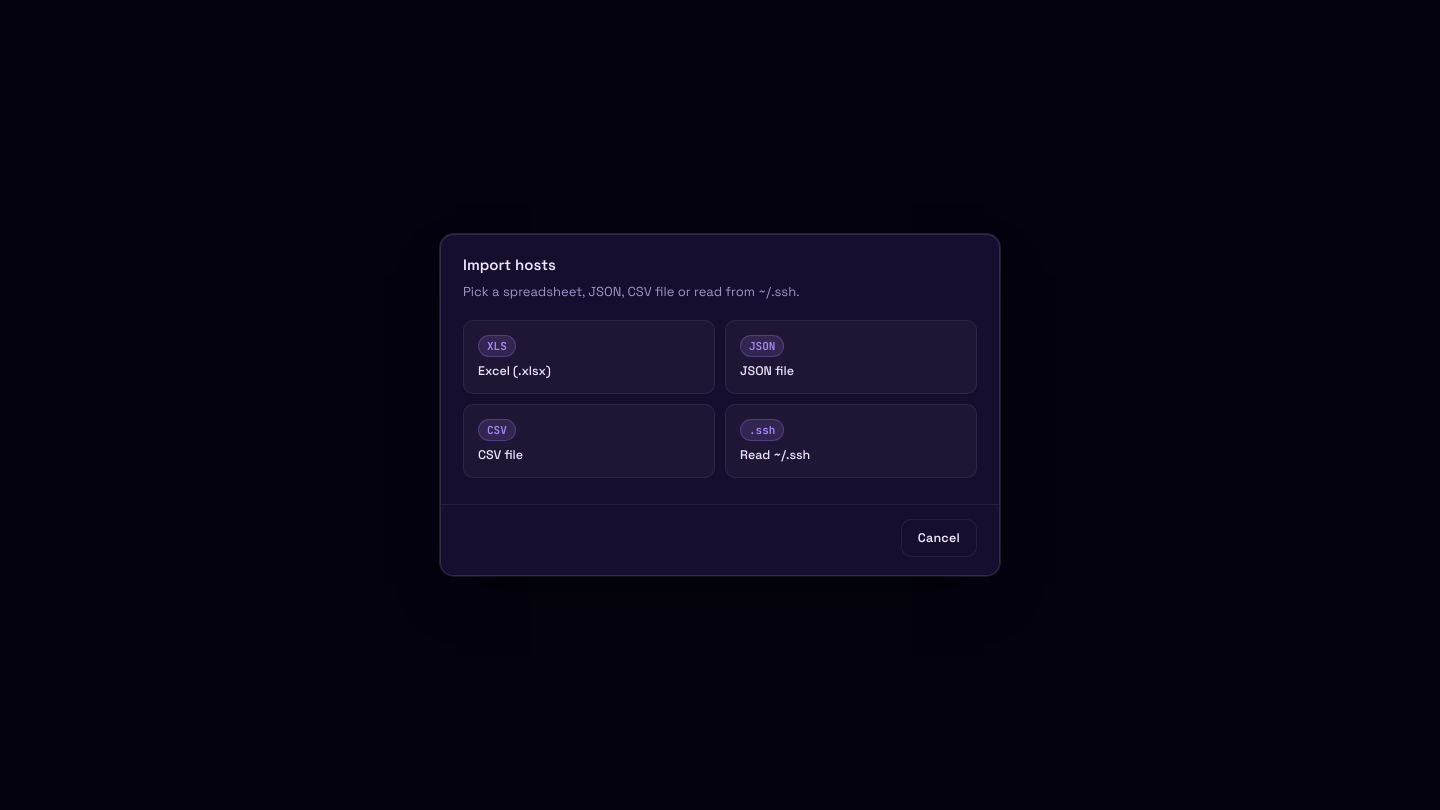
ImportDialog diagnostics › warns when an imported SSH IdentityFile path is missing
This screenshot has width=1440, height=810.
Click the text "Read ~/.ssh".
click(775, 455)  # box [740,447,810,463]
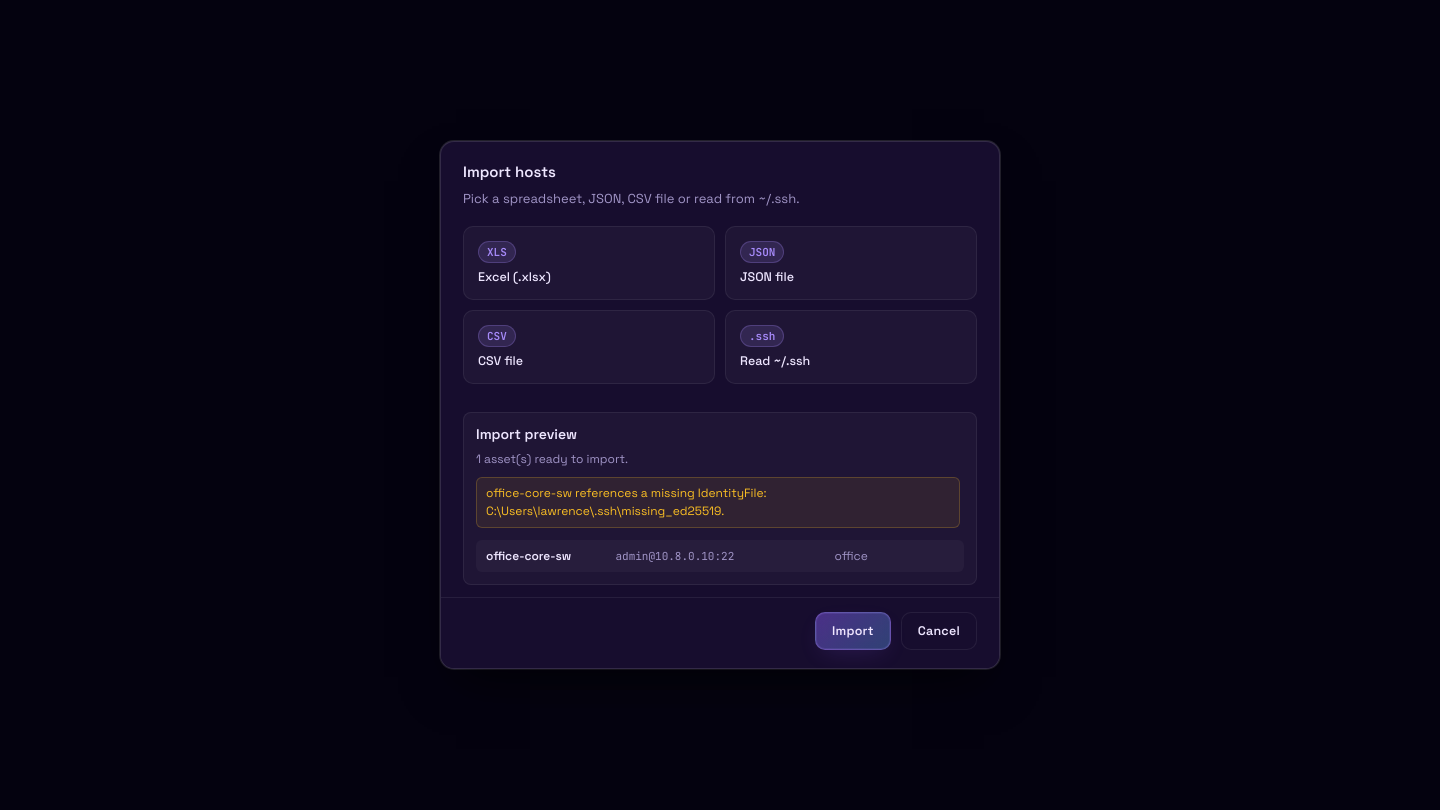
Expected: the text "references a missing IdentityFile" is shown, [486,485,767,519]
